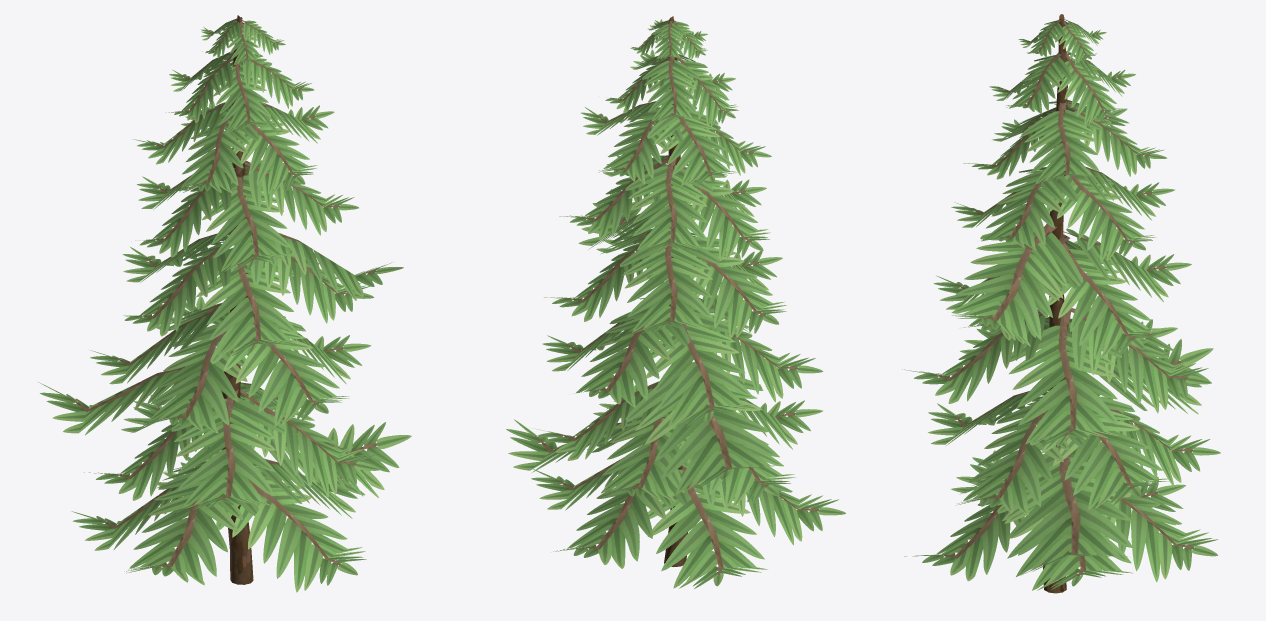
The model's file is quaternius-textured-stylized-trees-pine-5.glb.
The picture shows the model from 3 angles, left to right: view 1: azimuth 30°, elevation 25°; view 2: azimuth 150°, elevation 25°; view 3: azimuth 270°, elevation 25°; orthographic projection. The views are drawn at different scales.
Parts seen in each view (by area): view 1: Pine_5; view 2: Pine_5; view 3: Pine_5.
Part boxes in pixels (box(x1,y1,x2,y2)): Pine_5: box(38, 15, 411, 592); Pine_5: box(506, 16, 845, 588); Pine_5: box(902, 14, 1220, 593).
Bounding box in the file's own units: 6.8 × 10.31 × 6.04.
Materials: 2 (2 with a texture image).
